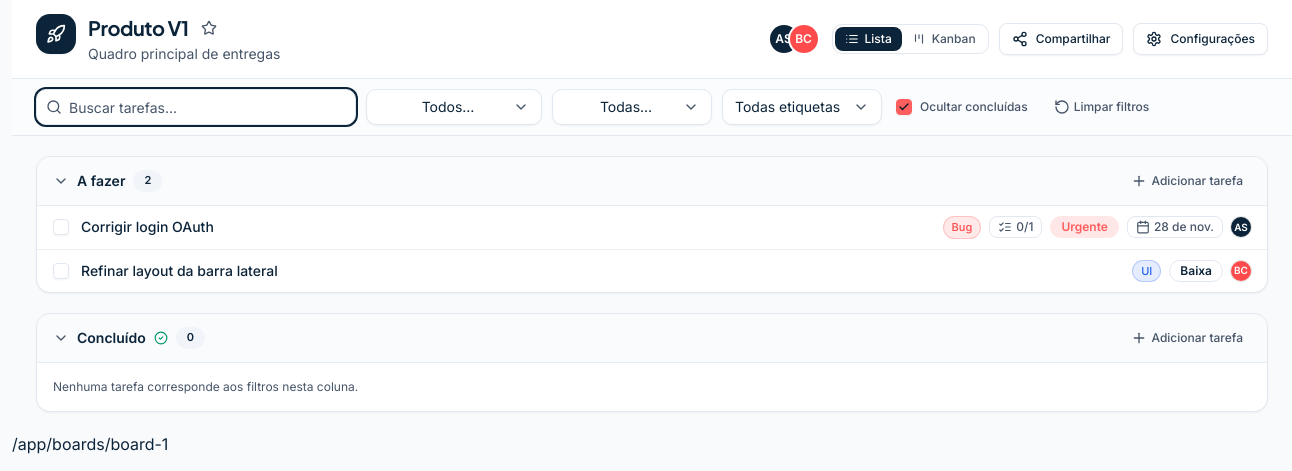
BoardPage List View & TaskDrawer › filterBarFiltersTasksBySearchAssigneePriorityTagAndHideCompleted
Earlier steps of the test are not shown.
Later steps or results of the test are not shown.
Click the dropdown named "filtrar por responsável".
click(454, 107)  # box [366,89,542,125]
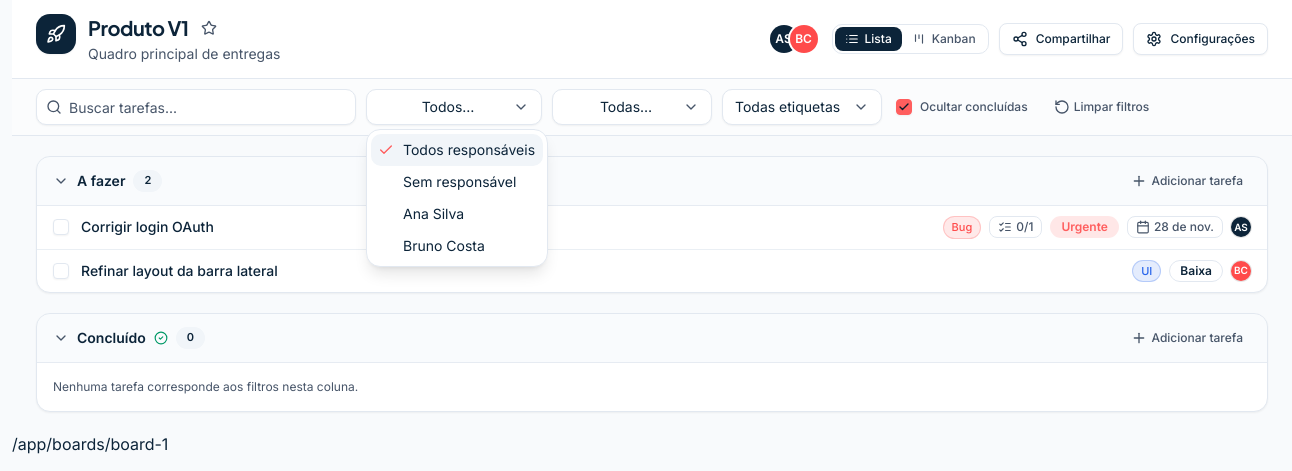
Click the option "Bruno Costa".
click(444, 246)  # box [403,237,485,254]
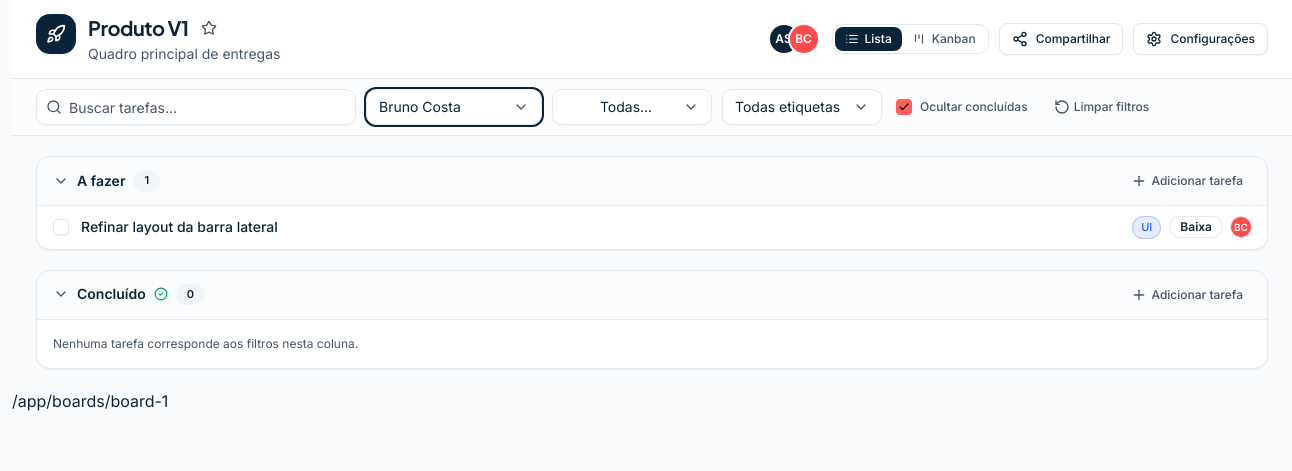
Result: the button "Refinar layout da barra lateral" is shown at [81,217,1124,237]
Result: the button "Corrigir login OAuth" is gone
Click the dropdown named "filtrar por responsável".
click(454, 107)  # box [366,89,542,125]
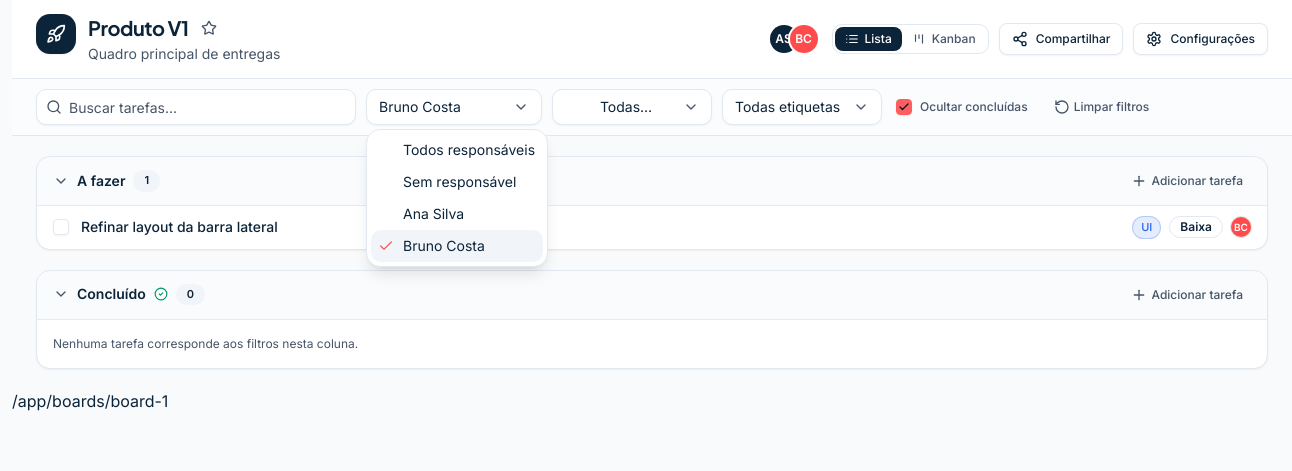
Click the option "Todos responsáveis".
click(469, 150)  # box [403,141,535,158]
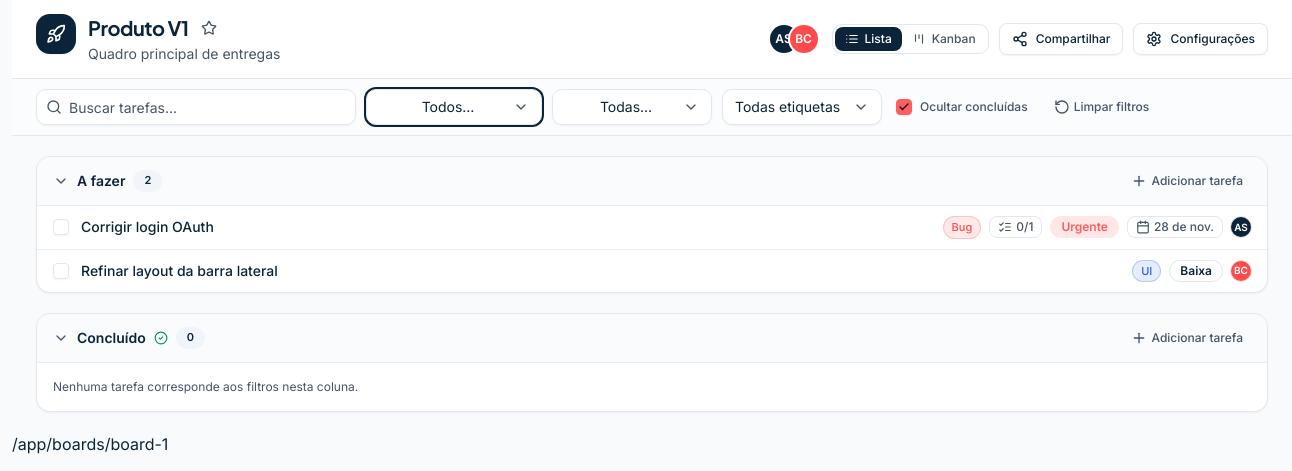
Click the dropdown named "filtrar por prioridade".
click(632, 107)  # box [552,89,712,125]
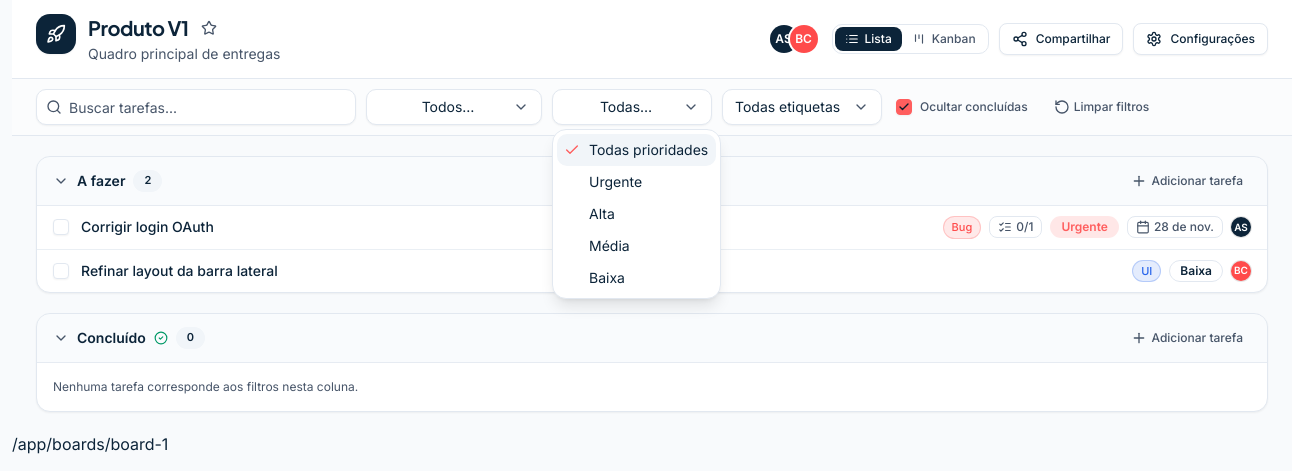
Click the option "Urgente".
click(616, 182)  # box [589,173,642,190]
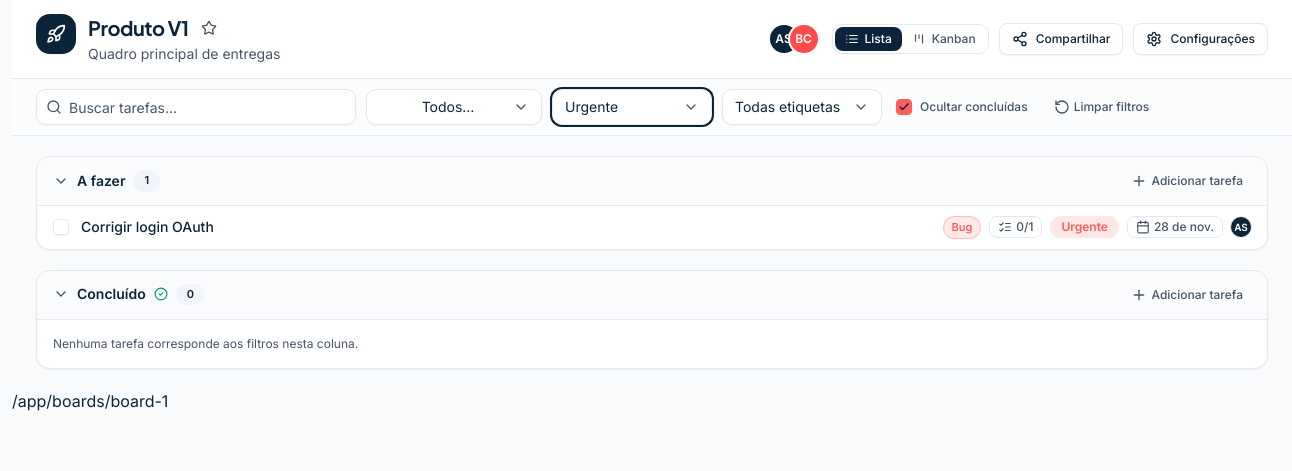
Result: the button "Corrigir login OAuth" is shown at [81,217,935,237]
Result: the button "Refinar layout da barra lateral" is gone
